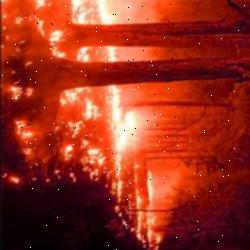fire: (0, 0, 165, 248)
